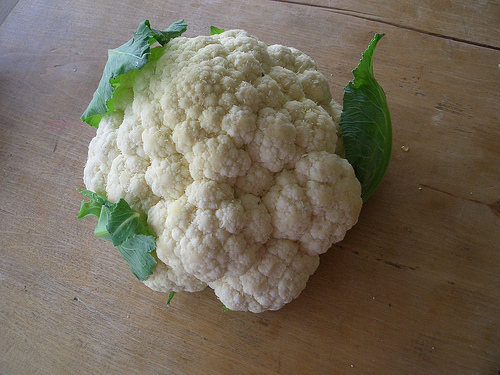cauliflower: (87, 28, 366, 316)
